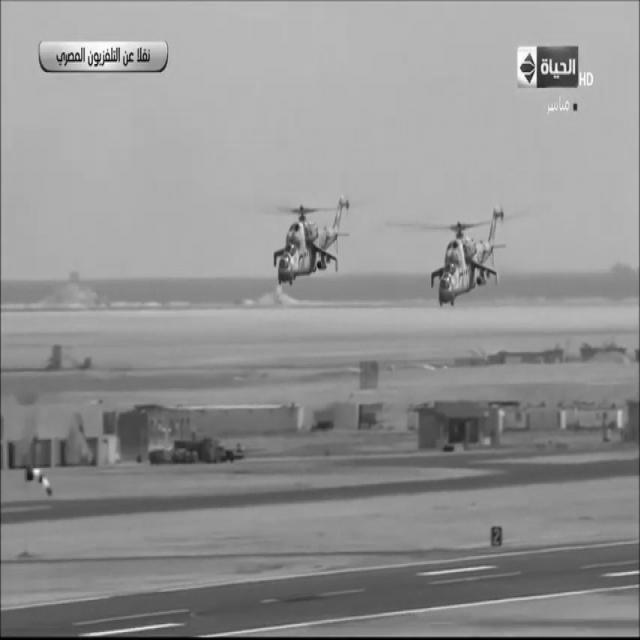helikopter: (386, 200, 512, 322), (256, 182, 356, 292)
